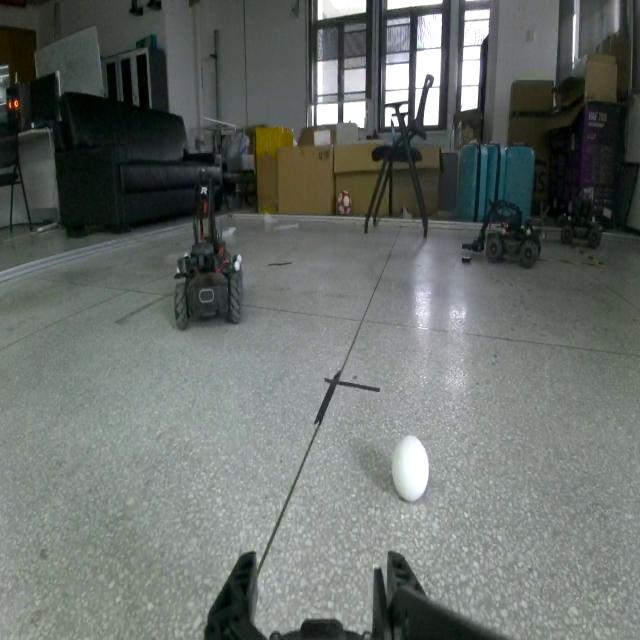ball1: (392, 434, 431, 502)
ep: (169, 170, 245, 327)
s1: (459, 190, 546, 272)
